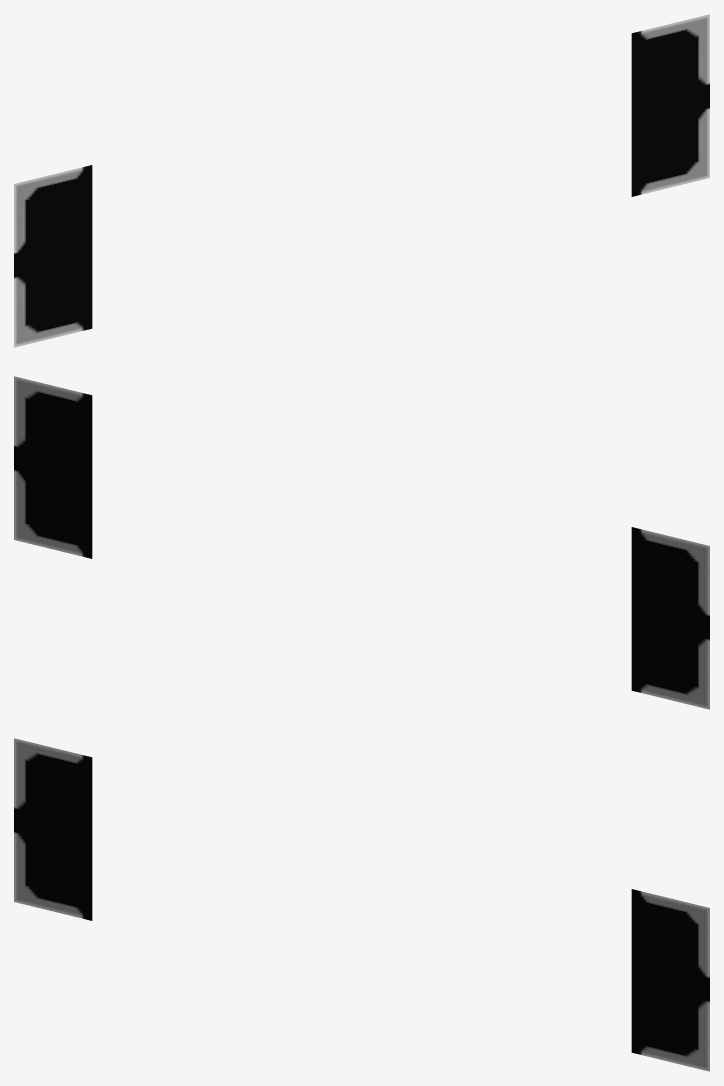
Rendered from xinshouyindao_biankuang02.FBX.
3 views of the same model, one above another, from view 1: azimuth 30°, elevation 25°; view 2: azimuth 150°, elevation 25°; view 3: azimuth 330°, elevation 25° (orthographic).
Parts seen in each view (by area): view 1: Plane003; view 2: Plane003; view 3: Plane003.
Boxes of the visible parts, bbox=[...] form: Plane003: bbox=[14, 14, 709, 347]; Plane003: bbox=[14, 376, 709, 709]; Plane003: bbox=[14, 738, 709, 1071].
Size of the model in its own units: 443 by 99.66 by 4.36e-06.
Materials: 1 (1 with a texture image).
